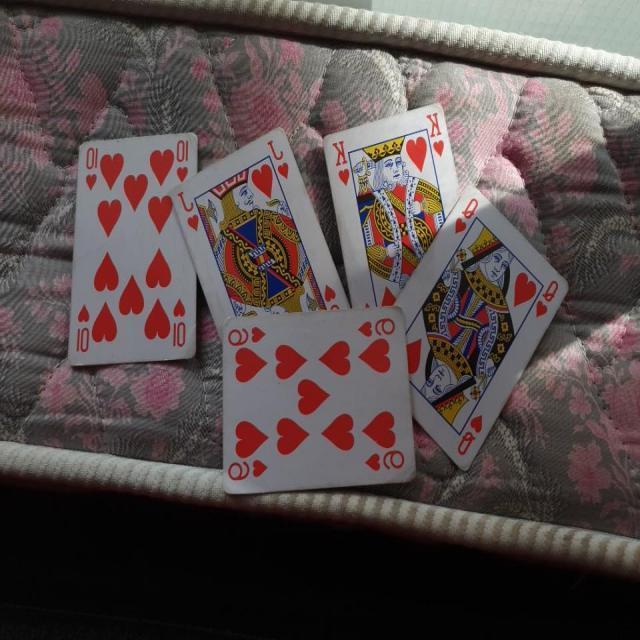10 of hearts: (64, 124, 208, 377)
9 of hearts: (217, 302, 418, 510)
jack of hearts: (170, 120, 353, 364)
king of hearts: (322, 96, 462, 312)
queen of hearts: (386, 178, 574, 474)
